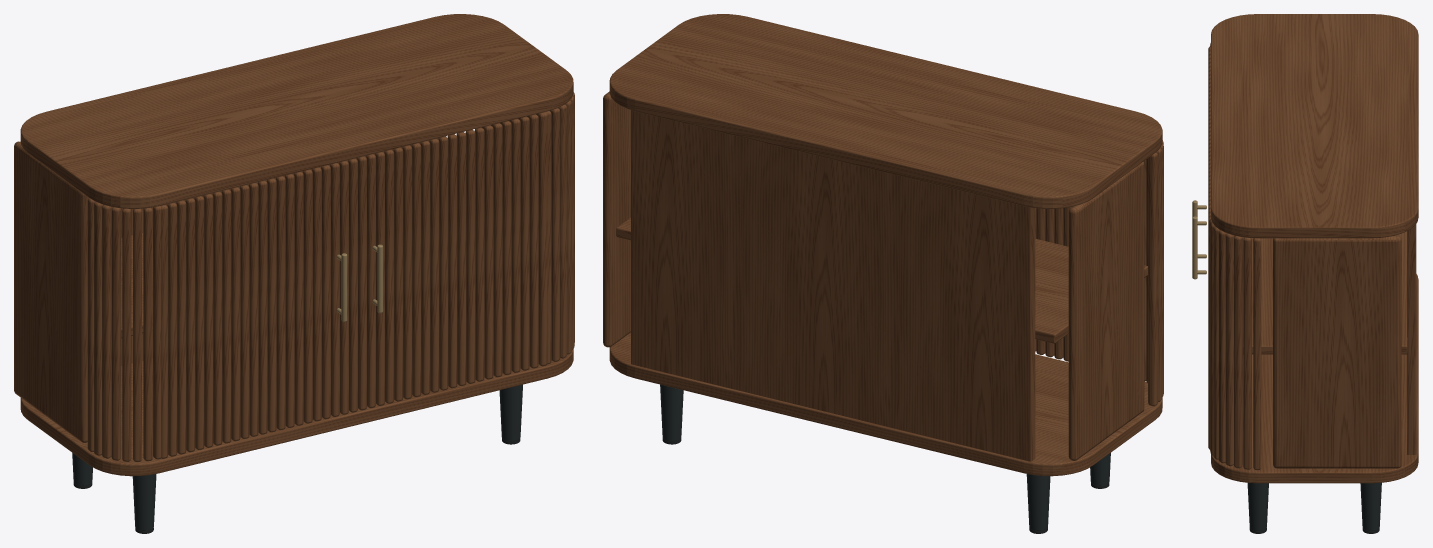
3 views of the same model, side by side, from view 1: azimuth 30°, elevation 25°; view 2: azimuth 150°, elevation 25°; view 3: azimuth 270°, elevation 25° (orthographic). The views are drawn at different scales.
Visible parts, largest first — view 1: Rounded walnut slab.001, Side | enclosed walnut return, Rounded walnut slab, Tambour | turning corner.004, Tambour | front stave 12, Tambour | front stave 41, Tambour | front stave 02, Tambour | front stave 05, Tambour | front stave 06, Tambour | front stave 08, Tambour | front stave 10, Tambour | front stave 11 (+50 smaller); view 2: Rear panel, Rounded walnut slab.001, Side | enclosed walnut return, Rounded walnut slab, Side | enclosed walnut return.001, Inner adjustable shelf, Tambour | turning corner.007, Leg | tapered furniture foot.001, Leg | tapered furniture foot.003, Tambour | turning corner.006; view 3: Rounded walnut slab.001, Side | enclosed walnut return.001, Rounded walnut slab, Inner adjustable shelf, Rear panel, Tambour | turning corner.012, Tambour | turning corner.015, Tambour | turning corner.013, Tambour | turning corner.014, Tambour | turning corner.011, Tambour | turning corner.010, Leg | tapered furniture foot.002 (+5 smaller).
Boxes of the visible parts, left/top/right/bottom form: Rounded walnut slab.001: left=20, top=14, right=573, bottom=208; Side | enclosed walnut return: left=14, top=141, right=89, bottom=442; Rounded walnut slab: left=20, top=349, right=573, bottom=476; Tambour | turning corner.004: left=111, top=207, right=121, bottom=460; Tambour | front stave 12: left=266, top=178, right=276, bottom=432; Tambour | front stave 41: left=529, top=114, right=538, bottom=368; Tambour | front stave 02: left=176, top=200, right=186, bottom=454; Tambour | front stave 05: left=203, top=193, right=213, bottom=447; Tambour | front stave 06: left=212, top=191, right=222, bottom=445; Tambour | front stave 08: left=230, top=187, right=240, bottom=441; Tambour | front stave 10: left=248, top=182, right=258, bottom=436; Tambour | front stave 11: left=257, top=180, right=267, bottom=434; Rear panel: left=631, top=110, right=1035, bottom=461; Rounded walnut slab.001: left=609, top=14, right=1162, bottom=208; Side | enclosed walnut return: left=1068, top=161, right=1144, bottom=460; Rounded walnut slab: left=609, top=332, right=1162, bottom=476; Side | enclosed walnut return.001: left=603, top=91, right=630, bottom=347; Inner adjustable shelf: left=616, top=217, right=1147, bottom=343; Tambour | turning corner.007: left=1148, top=152, right=1157, bottom=406; Leg | tapered furniture foot.001: left=1026, top=474, right=1050, bottom=530; Leg | tapered furniture foot.003: left=660, top=384, right=683, bottom=441; Tambour | turning corner.006: left=1156, top=148, right=1161, bottom=401; Rounded walnut slab.001: left=1211, top=14, right=1418, bottom=238; Side | enclosed walnut return.001: left=1273, top=235, right=1401, bottom=468; Rounded walnut slab: left=1211, top=274, right=1418, bottom=483; Inner adjustable shelf: left=1235, top=231, right=1407, bottom=354; Rear panel: left=1407, top=224, right=1416, bottom=454; Tambour | turning corner.012: left=1225, top=233, right=1234, bottom=466; Tambour | turning corner.015: left=1253, top=238, right=1261, bottom=470; Tambour | turning corner.013: left=1234, top=236, right=1242, bottom=468; Tambour | turning corner.014: left=1243, top=237, right=1251, bottom=469; Tambour | turning corner.011: left=1218, top=230, right=1227, bottom=463; Tambour | turning corner.010: left=1213, top=227, right=1220, bottom=459; Leg | tapered furniture foot.002: left=1247, top=483, right=1268, bottom=530.
Size of the model in its own units: 1.12 by 0.802 by 0.501.
4 materials, 1 textured.
